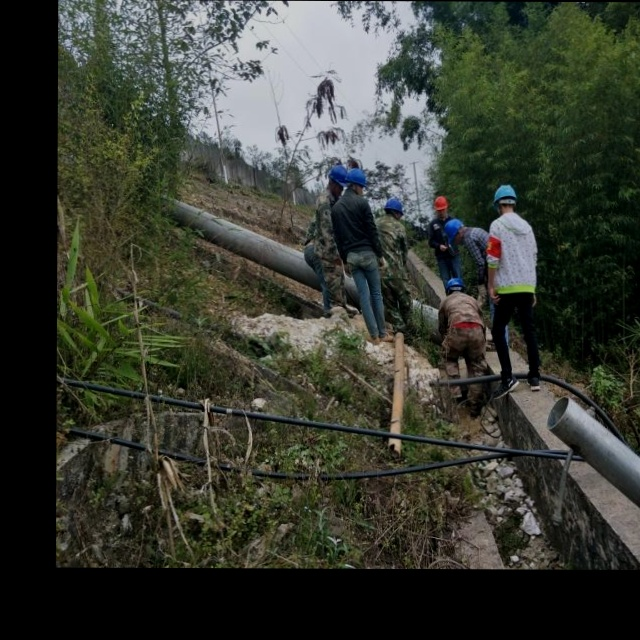Con_Casco: (494, 183, 517, 214), (384, 197, 404, 220), (434, 195, 448, 219)
Sin_Chaleco: (488, 217, 536, 292), (334, 194, 375, 259), (441, 291, 483, 344)
